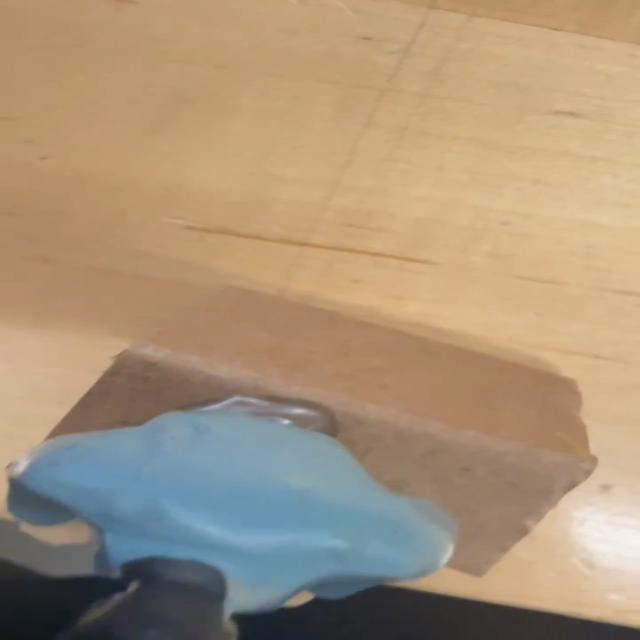Authorized: (0, 409, 454, 636)
